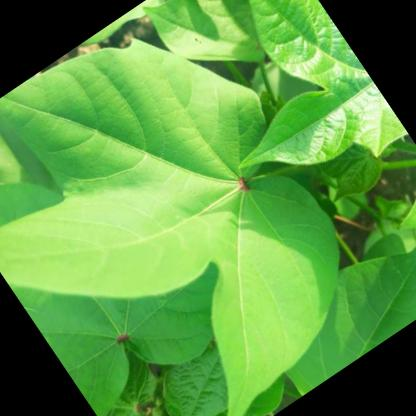cotton: (0, 0, 401, 416), (139, 0, 412, 228)
